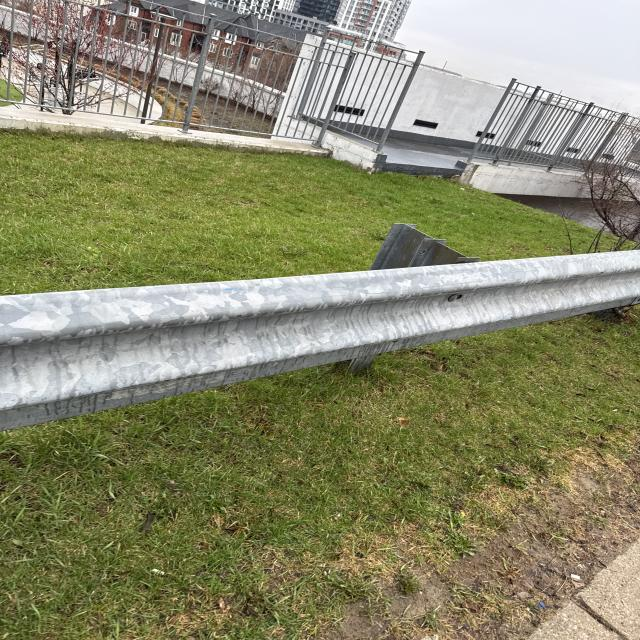Guard rail: (14, 241, 631, 417)
